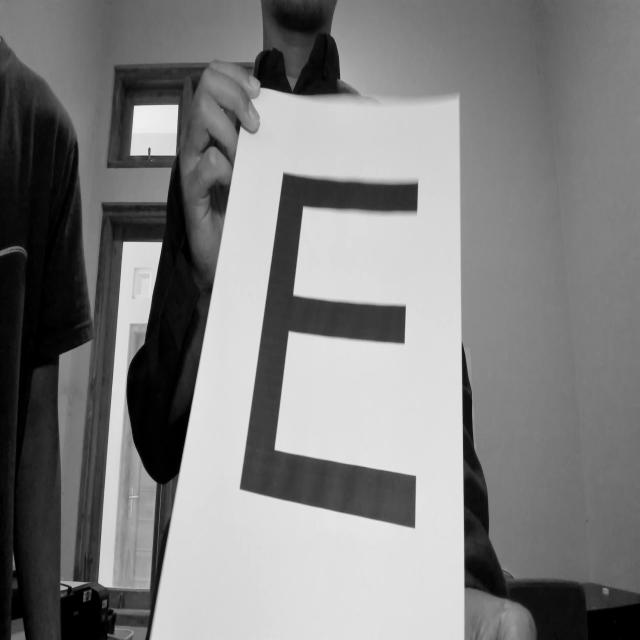e: (234, 156, 431, 554)
